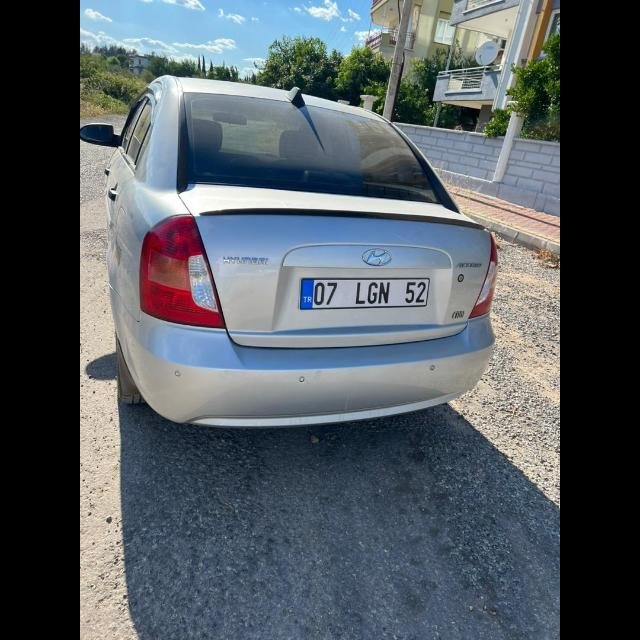Plaka: (300, 278, 430, 310)
